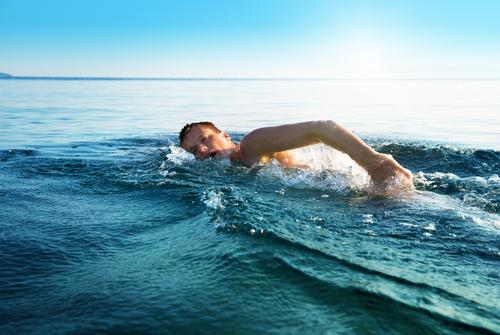human: (172, 114, 416, 203)
